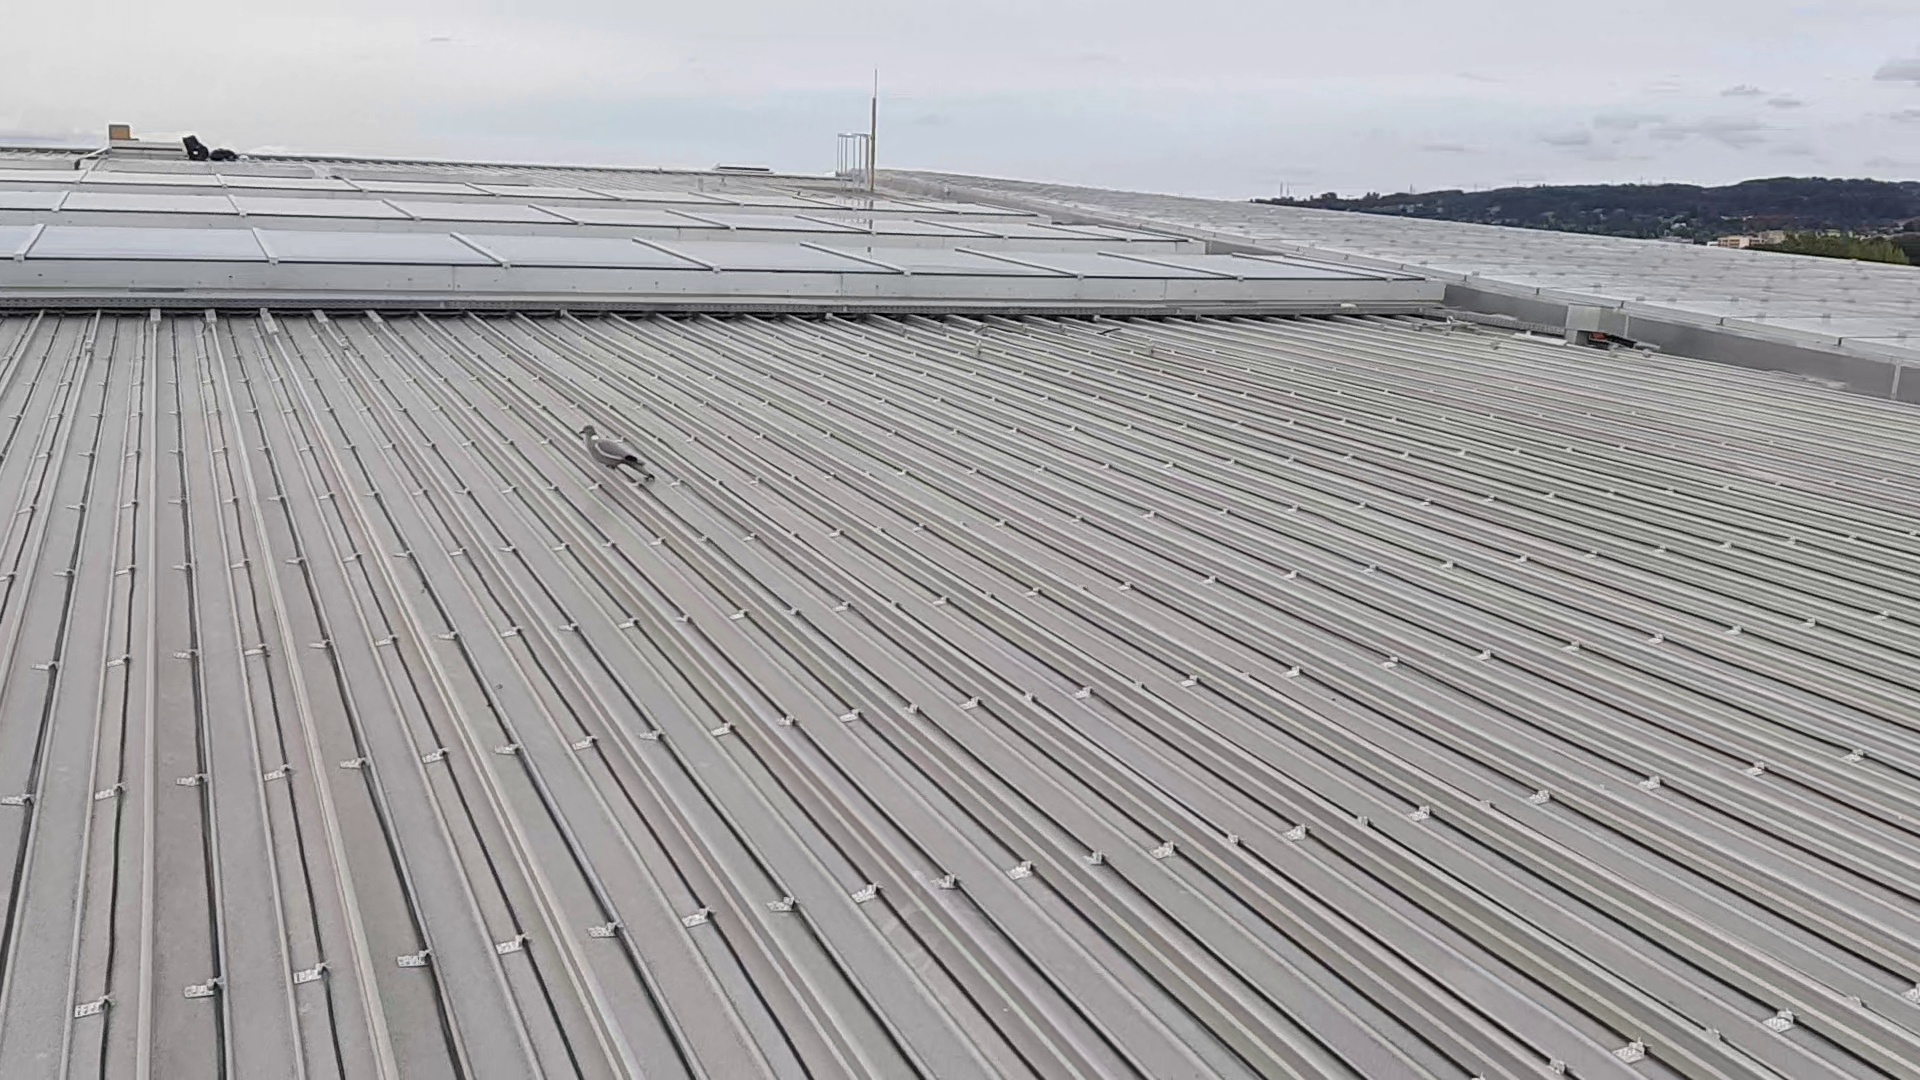Pigeon: (572, 426, 658, 487)
